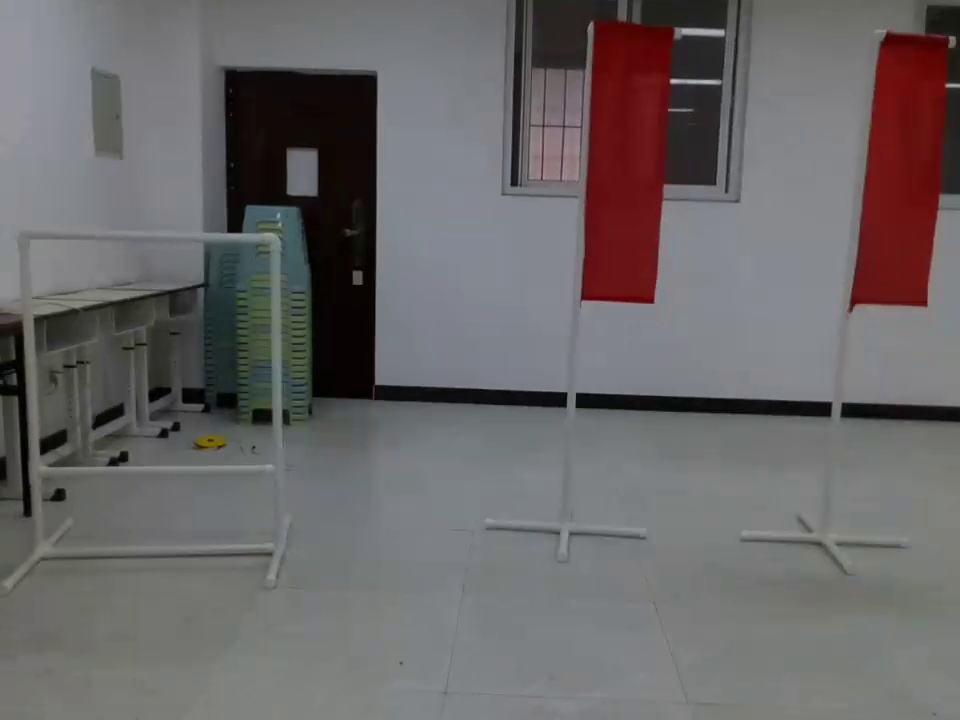qi: (577, 13, 682, 309), (858, 26, 945, 337)
